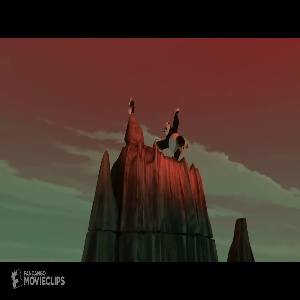po: (154, 107, 190, 161)
shifu: (126, 97, 137, 115)
